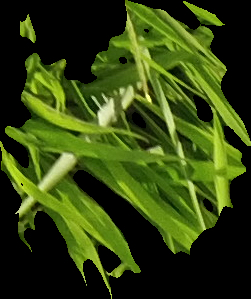grass: (1, 1, 249, 297)
